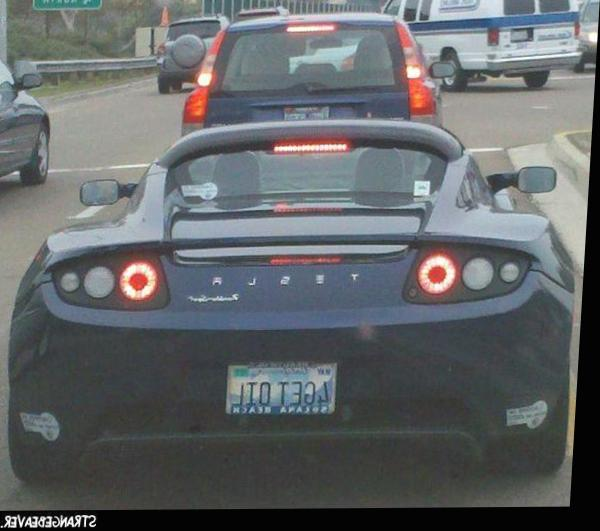License_Plate: (228, 365, 338, 414)
